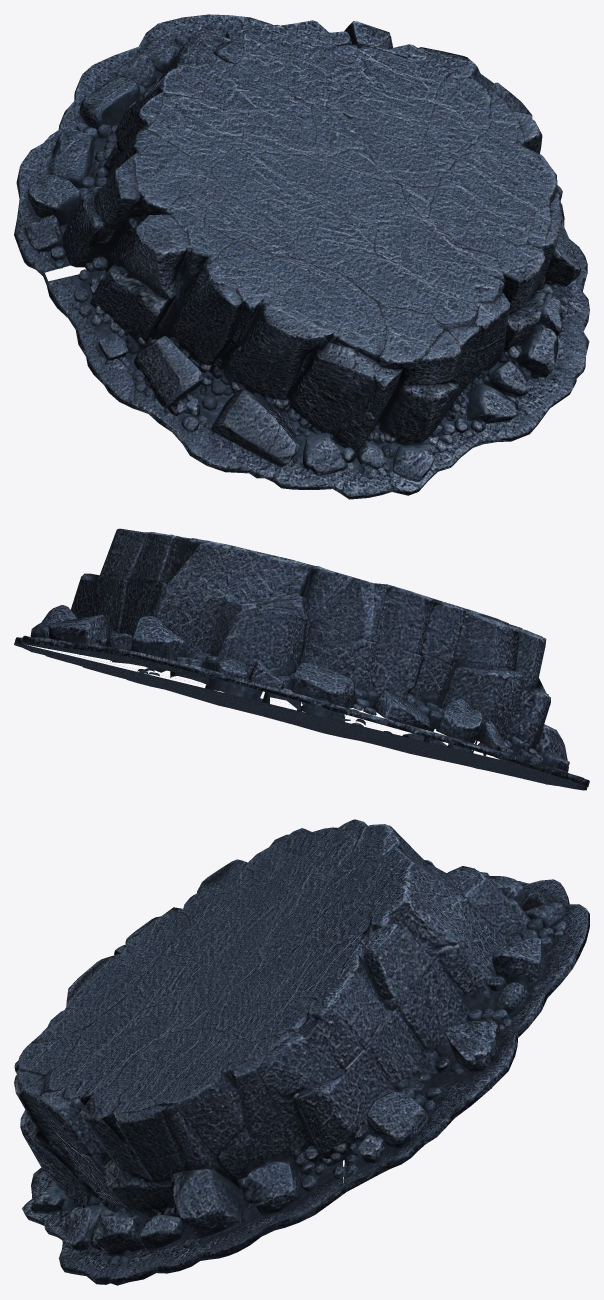
File: 06-woven-regolith-base.glb
3 views of the same model, one above another, from view 1: azimuth 30°, elevation 25°; view 2: azimuth 150°, elevation 25°; view 3: azimuth 270°, elevation 25° (orthographic). The views are drawn at different scales.
Parts seen in each view (by area): view 1: cd01dc15_2808_4ed2_b4f8_35af9306795b; view 2: cd01dc15_2808_4ed2_b4f8_35af9306795b; view 3: cd01dc15_2808_4ed2_b4f8_35af9306795b.
Boxes of the visible parts, x1,y1,x2,y2 form: cd01dc15_2808_4ed2_b4f8_35af9306795b: [14, 14, 589, 499]; cd01dc15_2808_4ed2_b4f8_35af9306795b: [14, 528, 589, 790]; cd01dc15_2808_4ed2_b4f8_35af9306795b: [14, 819, 589, 1285].
Bounding box in the file's own units: 0.9995 × 0.6333 × 0.9106.
1 material, 1 textured.
